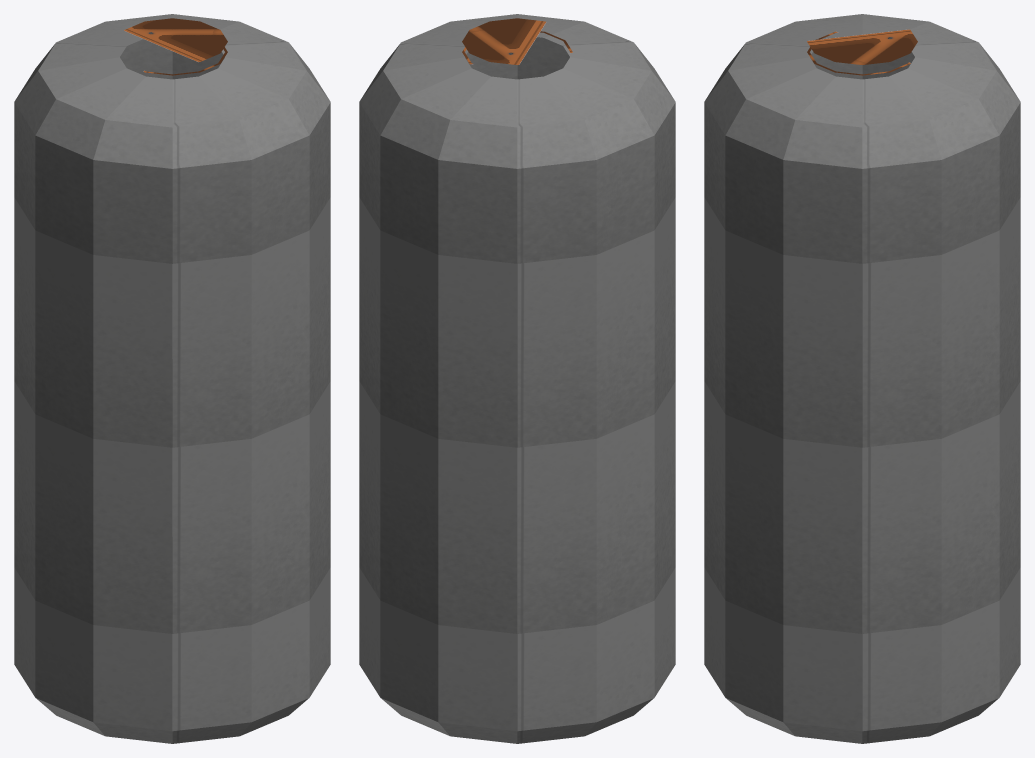
Rendered from BigcylindricalContainer.fbx.
3 renders of one model, left to right at view 1: azimuth 30°, elevation 25°; view 2: azimuth 150°, elevation 25°; view 3: azimuth 270°, elevation 25°, orthographic.
Visible parts, largest first — view 1: BigcylindricalContainer; view 2: BigcylindricalContainer; view 3: BigcylindricalContainer.
Part boxes in pixels (x1,y1,x2,y2): BigcylindricalContainer: (14, 14, 330, 743); BigcylindricalContainer: (359, 14, 675, 743); BigcylindricalContainer: (704, 14, 1020, 743).
Bounding box in the file's own units: 273 × 632 × 273.
